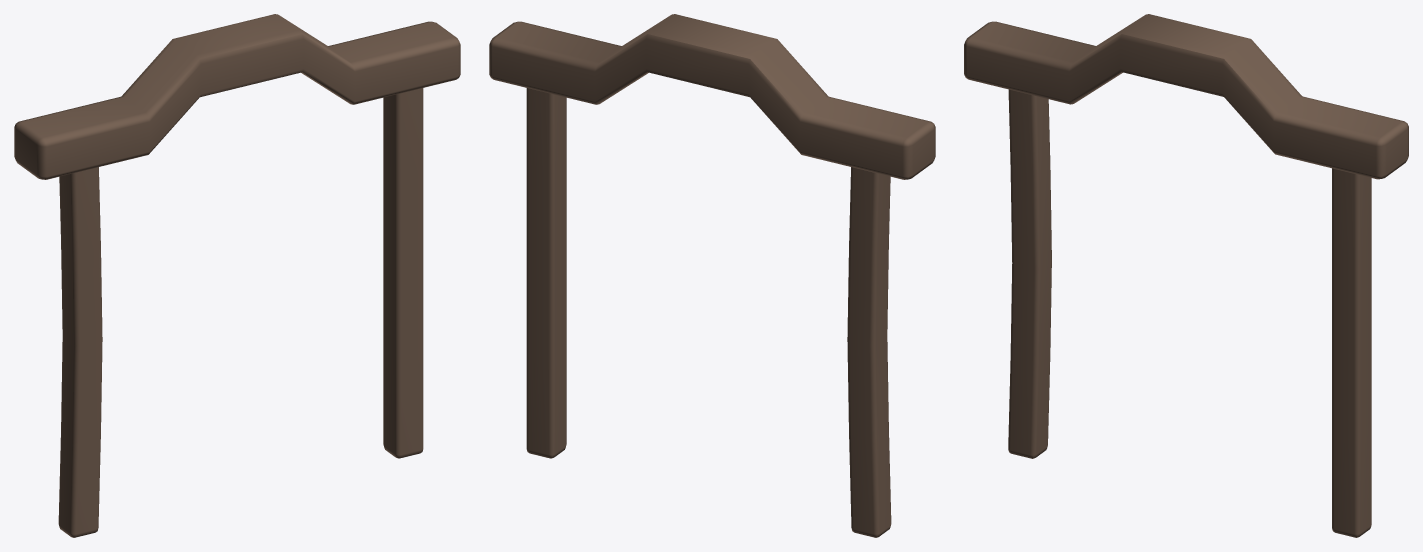
Rendered from Gate.fbx.
The picture shows the model from 3 angles, left to right: view 1: azimuth 30°, elevation 25°; view 2: azimuth 150°, elevation 25°; view 3: azimuth 330°, elevation 25°; orthographic projection.
Visible parts, largest first — view 1: polySurface30; view 2: polySurface30; view 3: polySurface30.
Part boxes in pixels (x1,y1,x2,y2): polySurface30: (14,14,460,537); polySurface30: (489,14,935,537); polySurface30: (964,14,1408,537).
Size of the model in its own units: 226 by 234 by 27.75.
